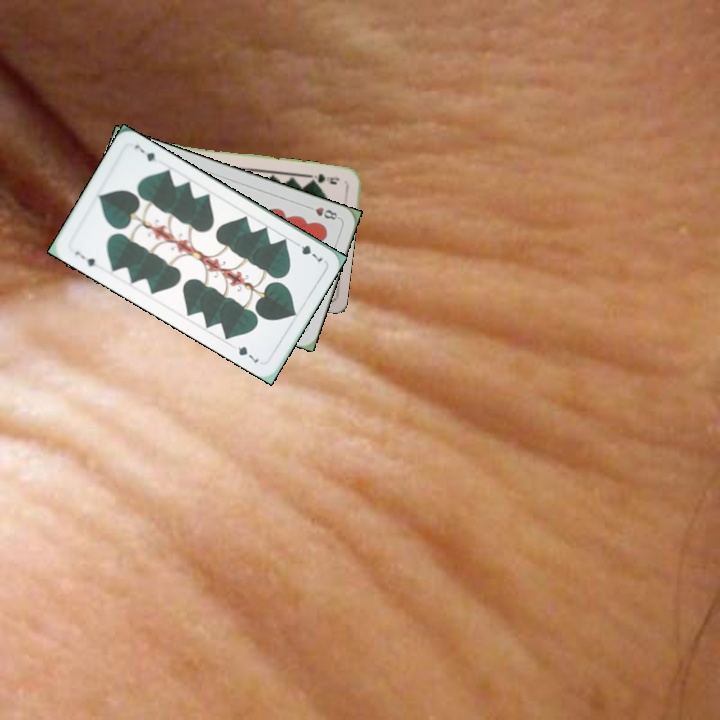G7: (290, 238, 326, 265), (71, 247, 98, 269)
G9: (305, 169, 342, 187)
H8: (303, 202, 342, 223)
